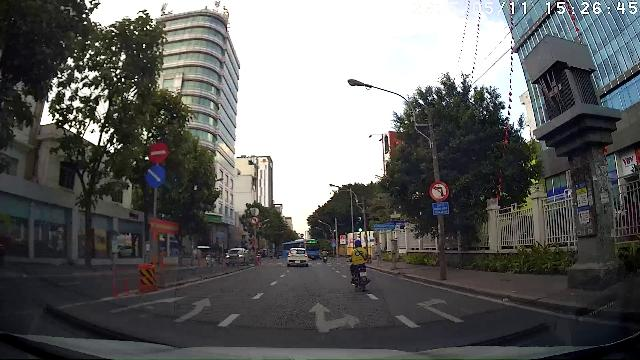102-cam-di-nguoc-chieu: (149, 142, 168, 164)
123a-cam-re-trai: (429, 180, 449, 201)
302a-huong-phai-di-vong-chuong-ngai-vat-1: (146, 164, 165, 187)
